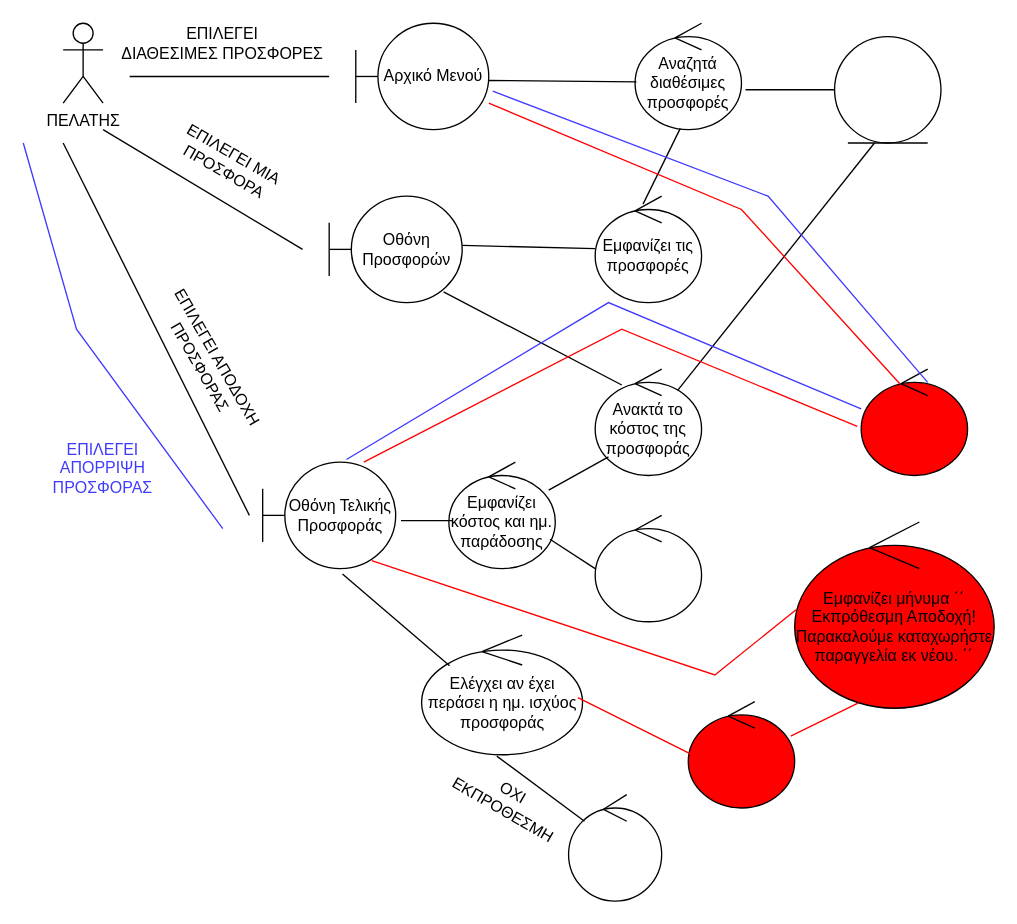
Image size: 1017x924. Some labels were removed from this diagram. Each missing label, with the box of its shape:
Βάση Δεδομένων: (833, 35, 941, 143)
Διαγράφει την καταχώρηση: (687, 700, 795, 808)
Επιστρεφει στο Αρχικό Μενού: (860, 368, 968, 475)
Καταχωρεί την παραγγελία: (567, 793, 662, 901)
Υπολογίζει την ημ. παράδοσης: (594, 514, 702, 622)
